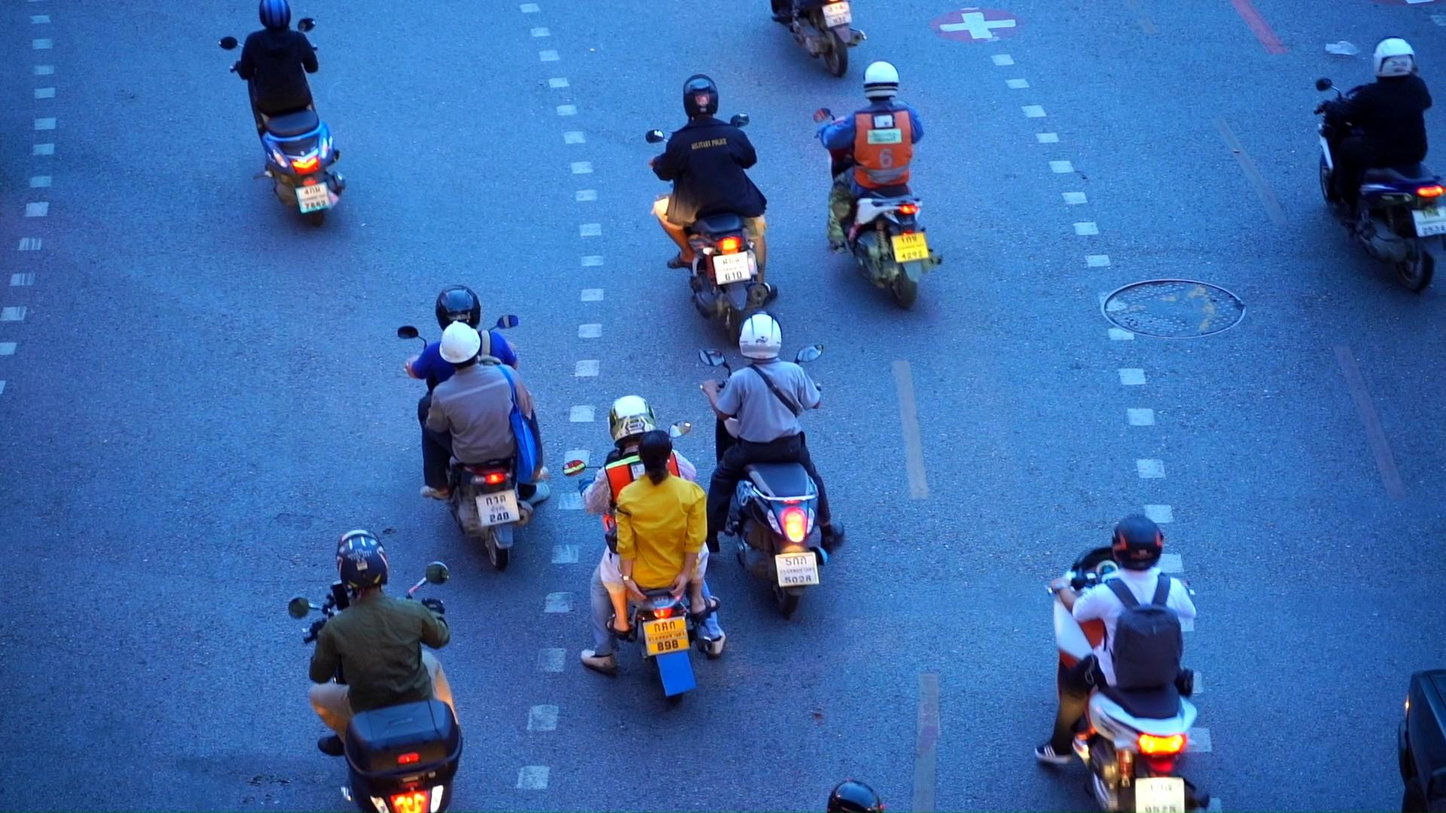driver: (1033, 514, 1212, 813), (563, 394, 729, 706), (288, 528, 463, 813), (698, 309, 845, 617), (397, 285, 552, 571), (644, 73, 778, 349), (1312, 37, 1446, 293), (813, 61, 944, 310), (217, 0, 346, 229), (769, 0, 868, 77)
helmet: (336, 529, 389, 598), (1112, 515, 1164, 572), (609, 395, 659, 448), (738, 310, 785, 364), (436, 285, 481, 331), (1372, 37, 1417, 83), (439, 321, 481, 370), (827, 779, 886, 813), (682, 75, 719, 123), (863, 61, 899, 103), (259, 0, 291, 30)
no-helmet: (637, 429, 672, 487)
